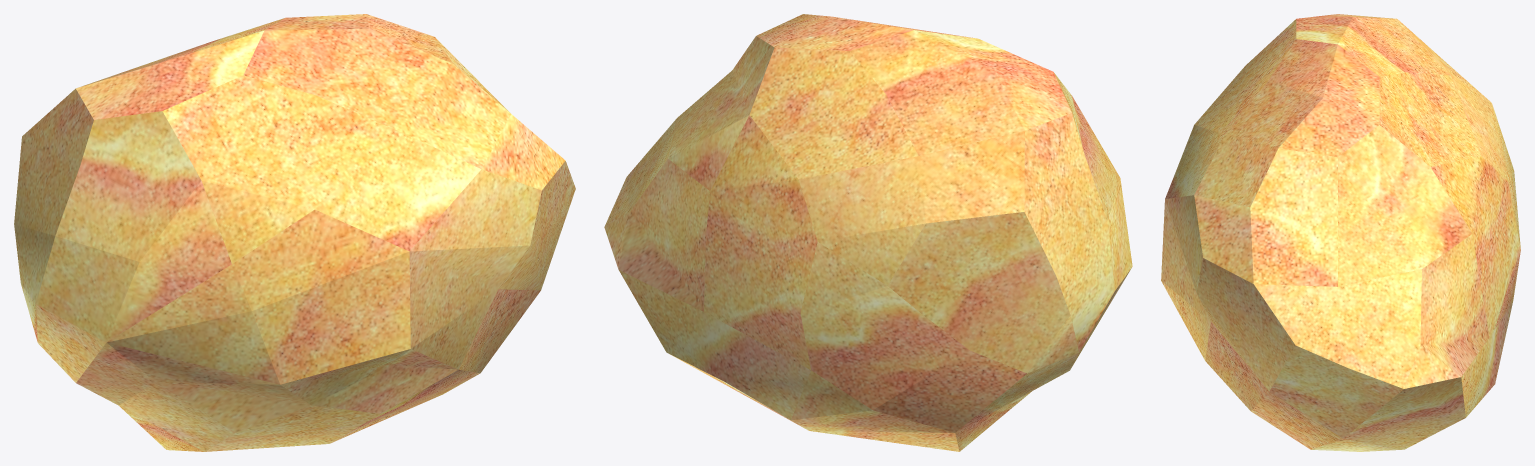
The model's file is boulder-sm-1.glb.
The picture shows the model from 3 angles, left to right: view 1: azimuth 30°, elevation 25°; view 2: azimuth 150°, elevation 25°; view 3: azimuth 270°, elevation 25°; orthographic projection. The views are drawn at different scales.
Parts seen in each view (by area): view 1: Dodecahedron_n3d; view 2: Dodecahedron_n3d; view 3: Dodecahedron_n3d.
Part boxes in pixels (x1,y1,x2,y2): Dodecahedron_n3d: [14, 14, 575, 451]; Dodecahedron_n3d: [604, 14, 1132, 451]; Dodecahedron_n3d: [1161, 14, 1520, 451].
Bounding box in the file's own units: 0.4026 × 0.3151 × 0.277.
Materials: 1 (1 with a texture image).
